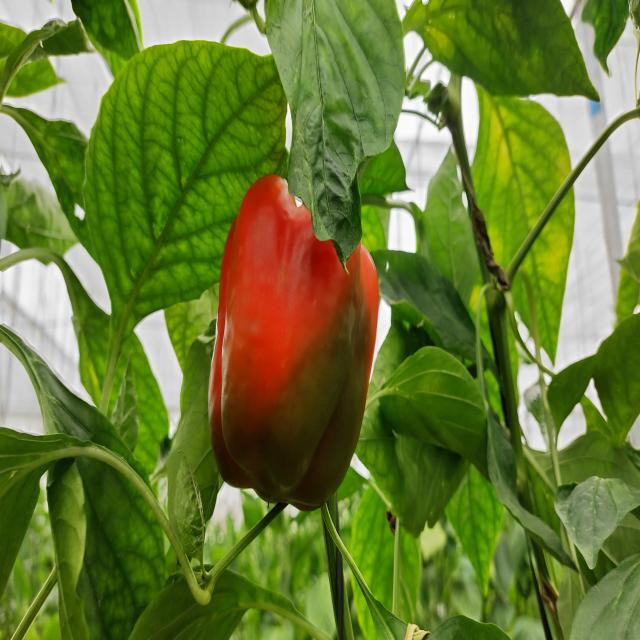BrownishRed--Can-be-Harvested: (205, 179, 395, 522)
